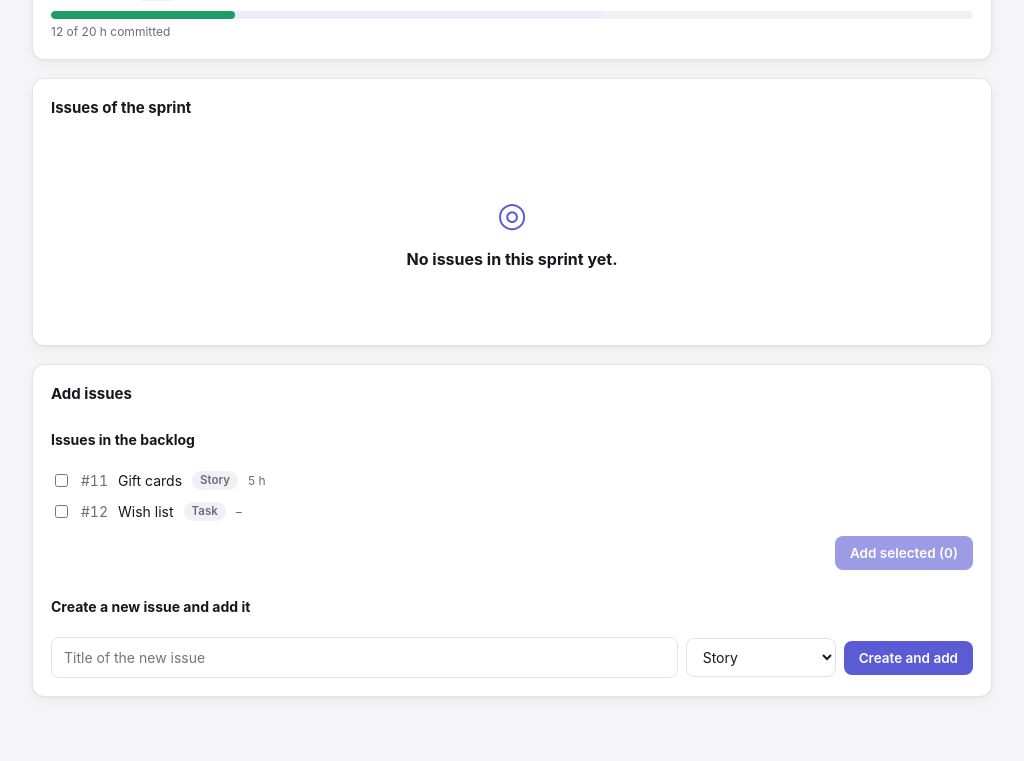
the sprint page: adding issues from the backlog › lists the backlog's issues and adds the selected ones
The image size is (1024, 761).
(page scrolled)
Expected: the text "Gift cards" is shown, [118,470,182,491]
Expected: the button "Add selected (0)" is disabled, [835,536,973,570]
Click the checkbox labelled "#11 Gift cards Story 5 h".
click(62, 481)  # box [55,474,68,487]
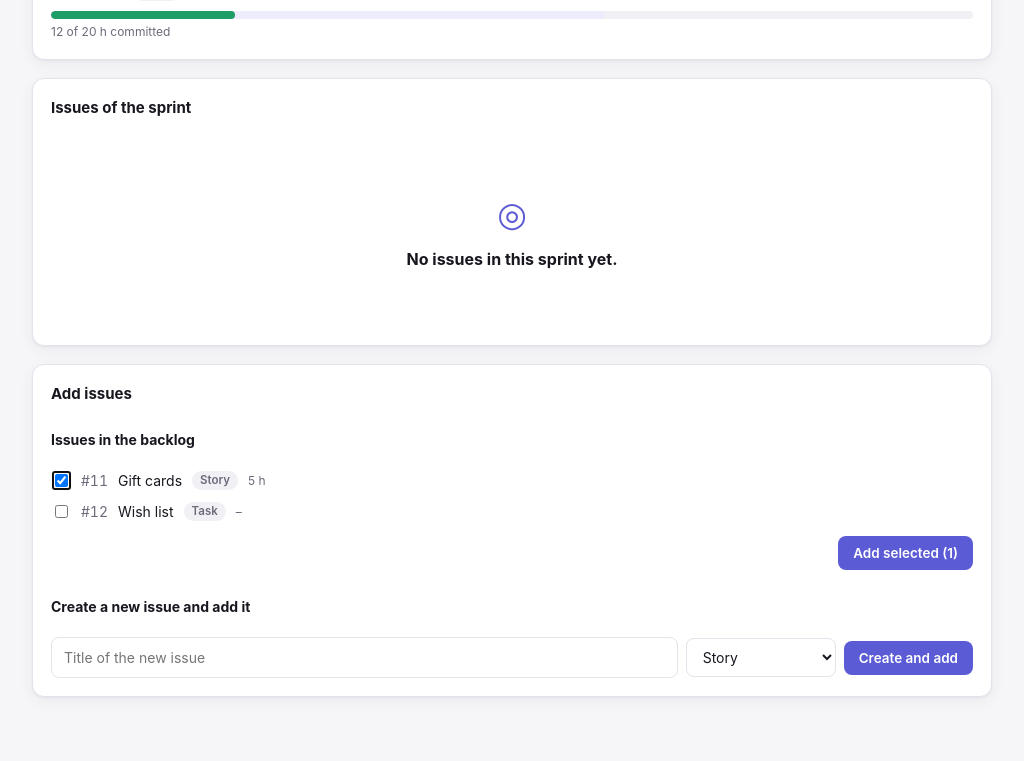
Click the checkbox named "Select #12".
click(62, 512)  # box [55,505,68,518]
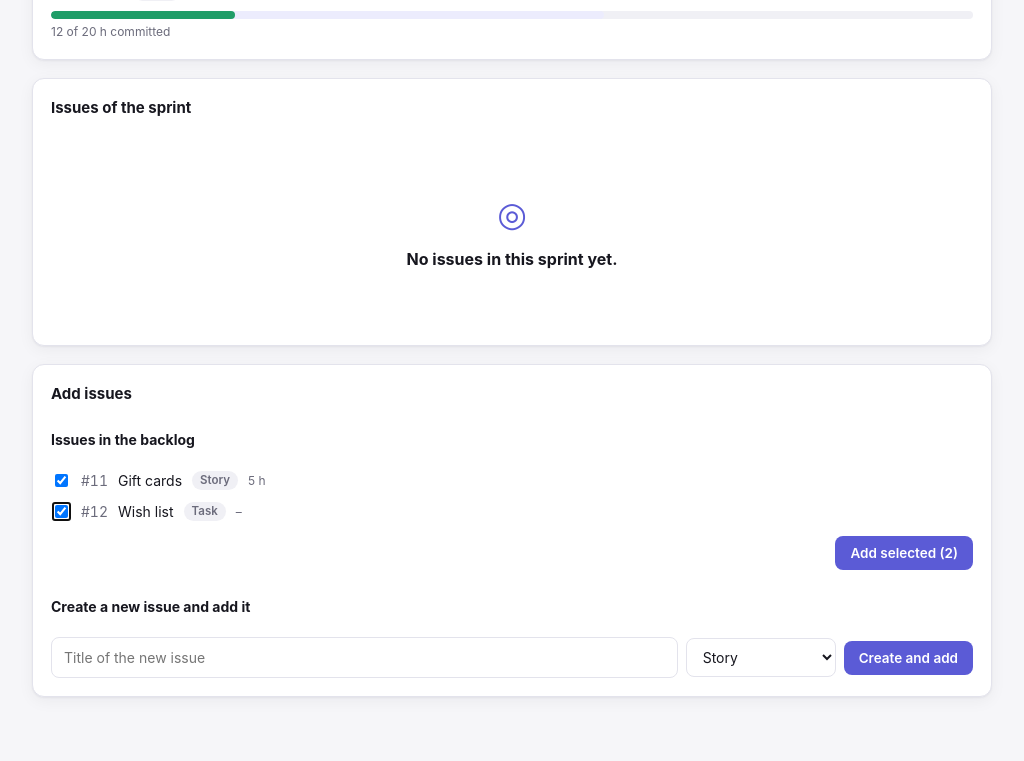
Click the button "Add selected (2)".
click(904, 553)  # box [835,536,973,570]
(page scrolled)
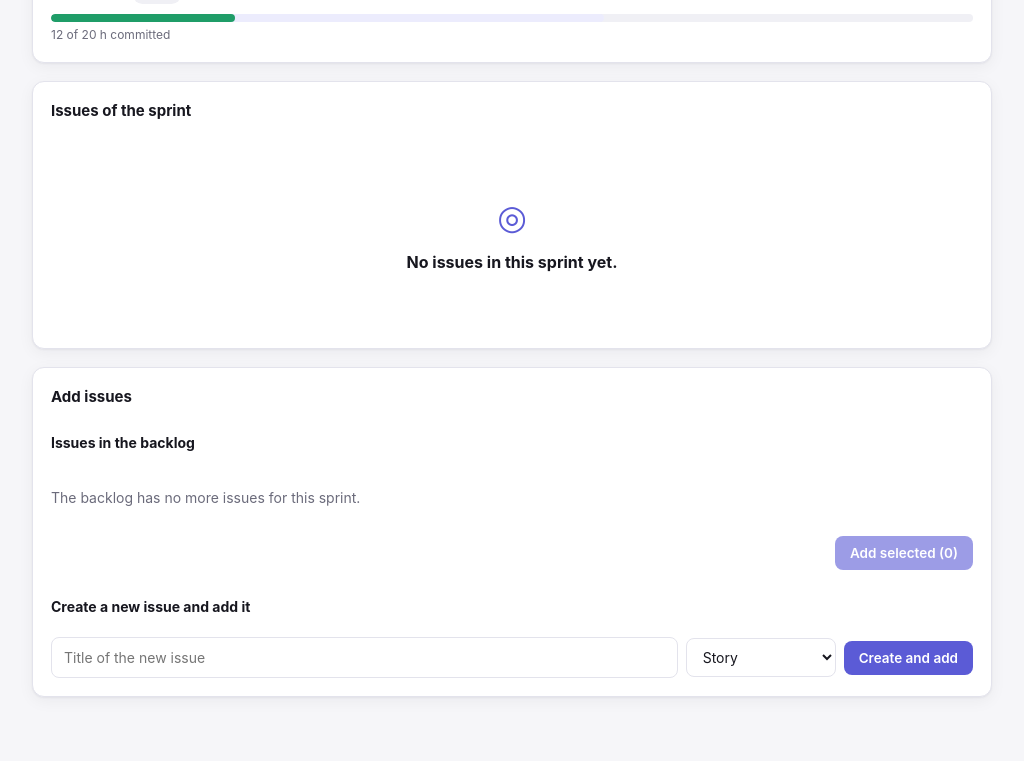
Expected: the text "The backlog has no more issues for this sprint." is shown, [51,489,360,506]
Expected: the button "Add selected (0)" is disabled, [835,536,973,570]
